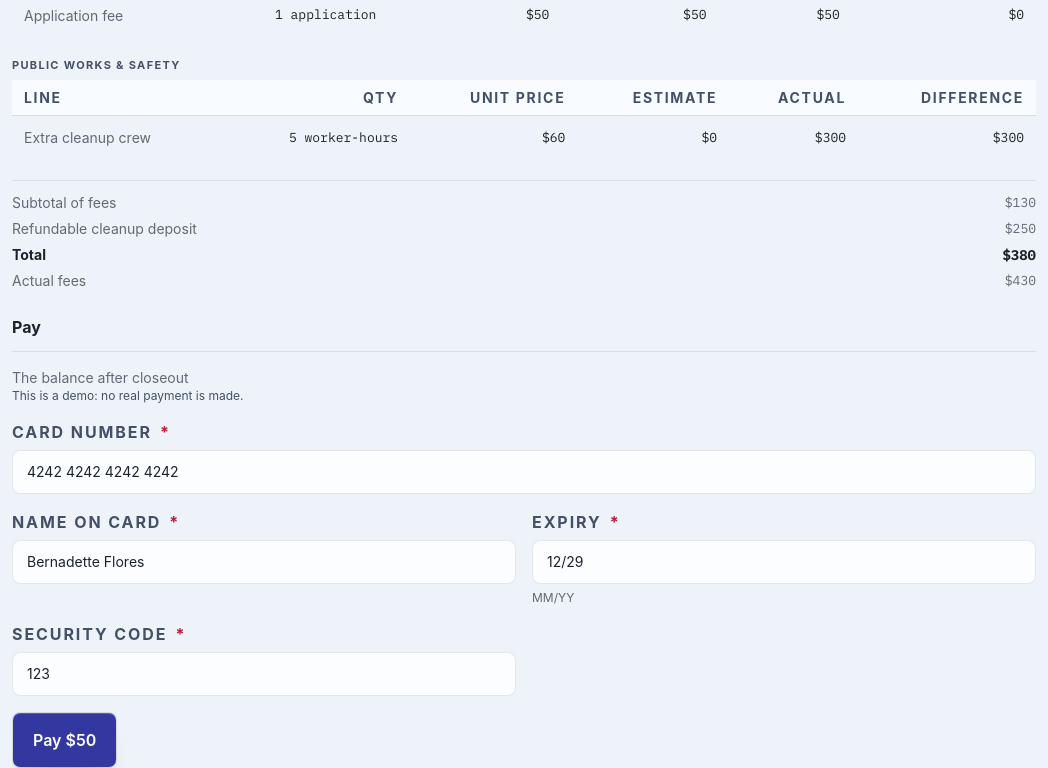
Scenario: CheckoutScreen: the moment after paying, before the next page arrives › the final bill: says it is paid
(page scrolled)
Click the button "Pay $50" at (65, 740), box [12,712,117,767]
(page scrolled)
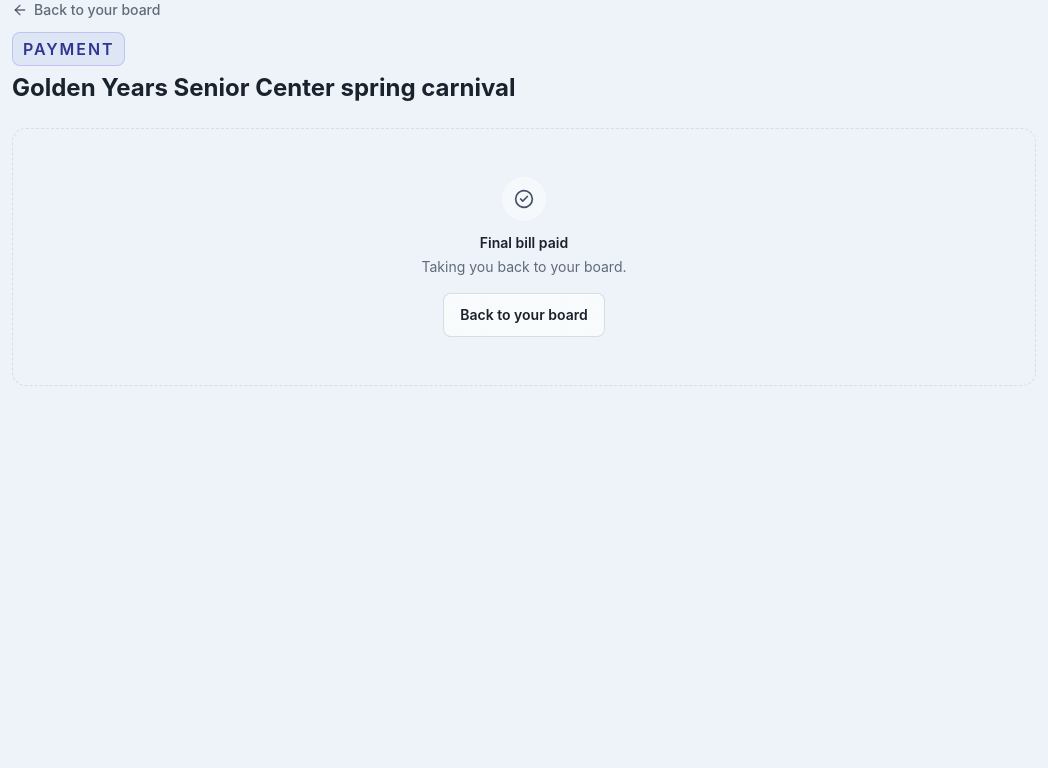
Expected: the text "Final bill paid" is shown, [480,234,568,251]
